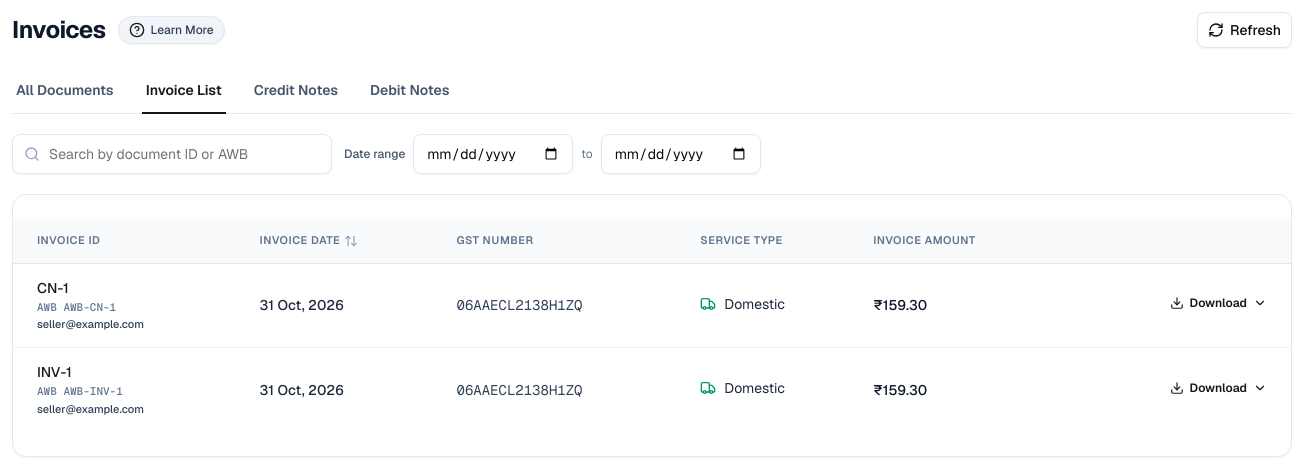
Scenario: Invoices list › labels document types and note columns on the All / Credit Notes tabs
What coordinates should you click on to do the following:
click the button with test id "invoices.tabs.all"
I would click on:
 (65, 91)
Its box is x1=12 y1=68 x2=118 y2=114.
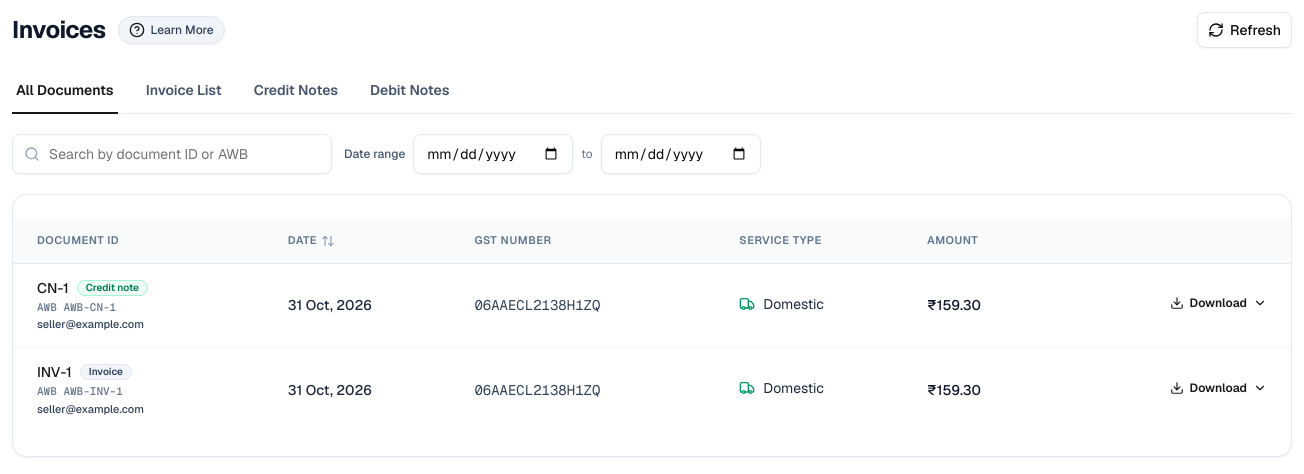
Expected: the text with test id "invoices.row.INV-1.merchant" reads "seller@example.com", x1=37 y1=402 x2=144 y2=416
Now the column heading "DOCUMENT ID" is shown, box x1=13 y1=219 x2=280 y2=263
Now the text "Credit note" is shown, box x1=77 y1=280 x2=148 y2=296
What coordinates should you click on to do the following:
click the button with test id "invoices.tabs.credit-notes"
I would click on:
 (296, 91)
Its box is x1=250 y1=68 x2=342 y2=114.
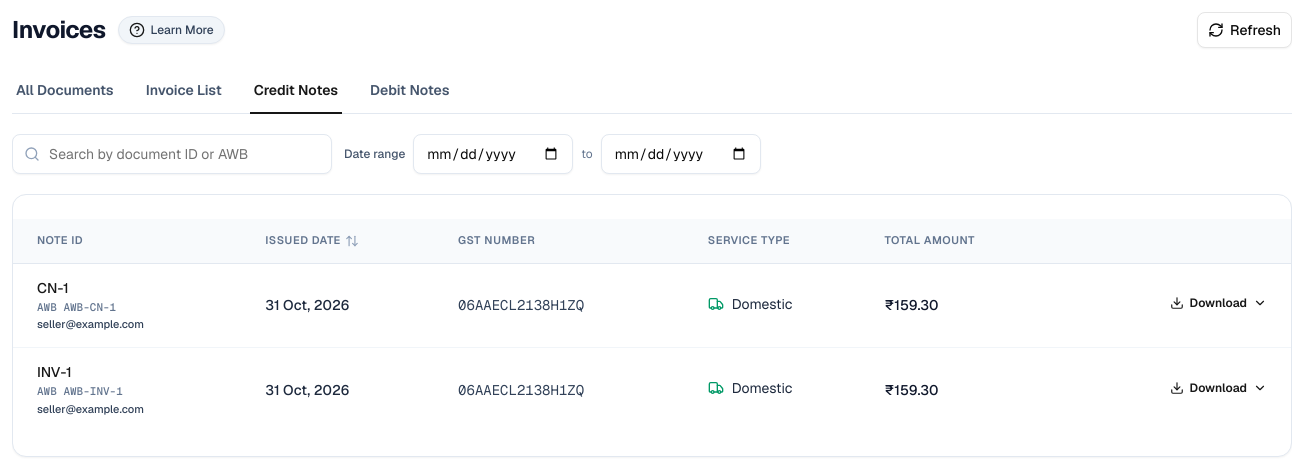
Now the column heading "NOTE ID" is shown, box x1=13 y1=219 x2=257 y2=263
